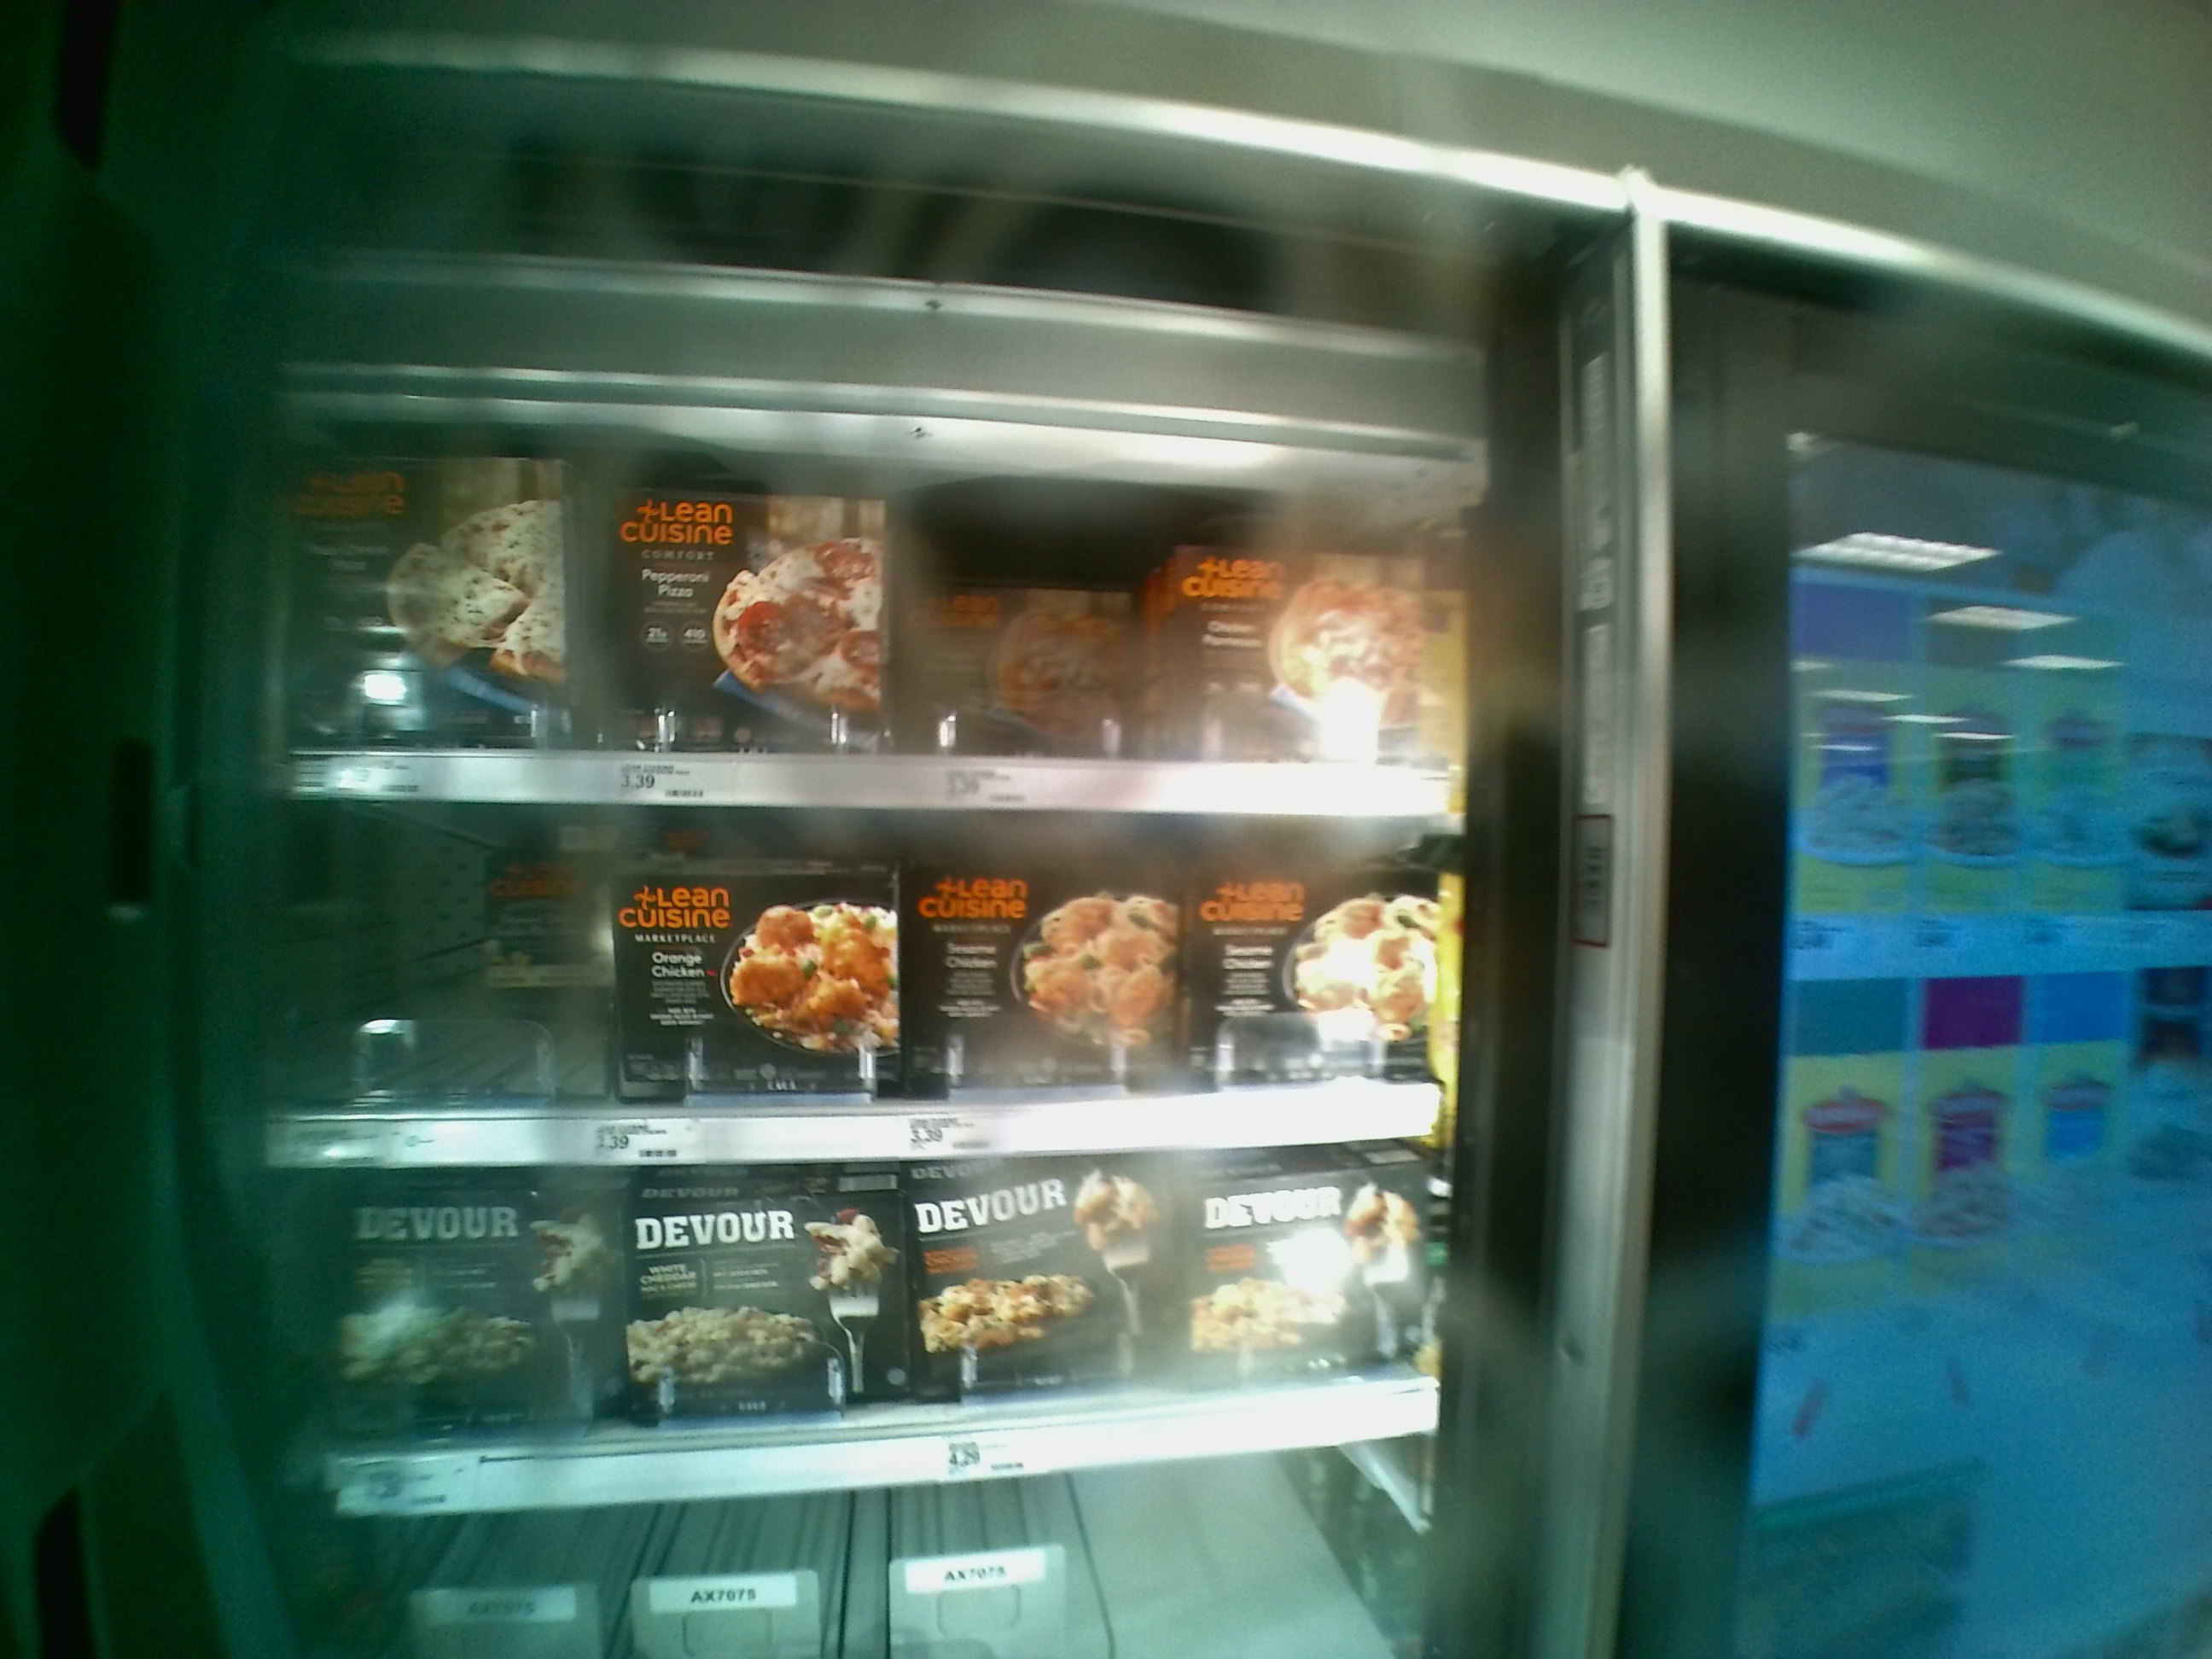shelf: (263, 350, 1456, 819), (268, 796, 1444, 1166)
